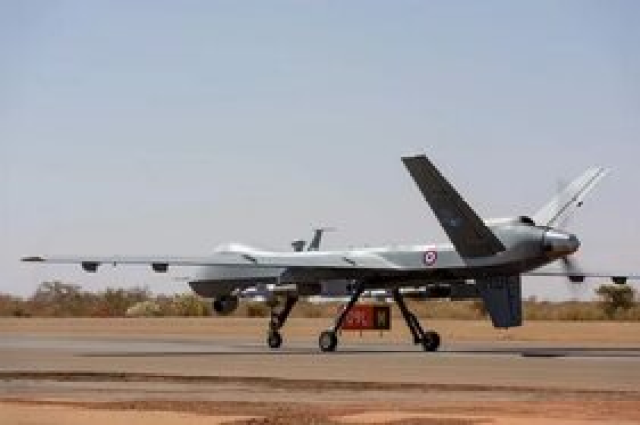military drone: (21, 152, 640, 352)
